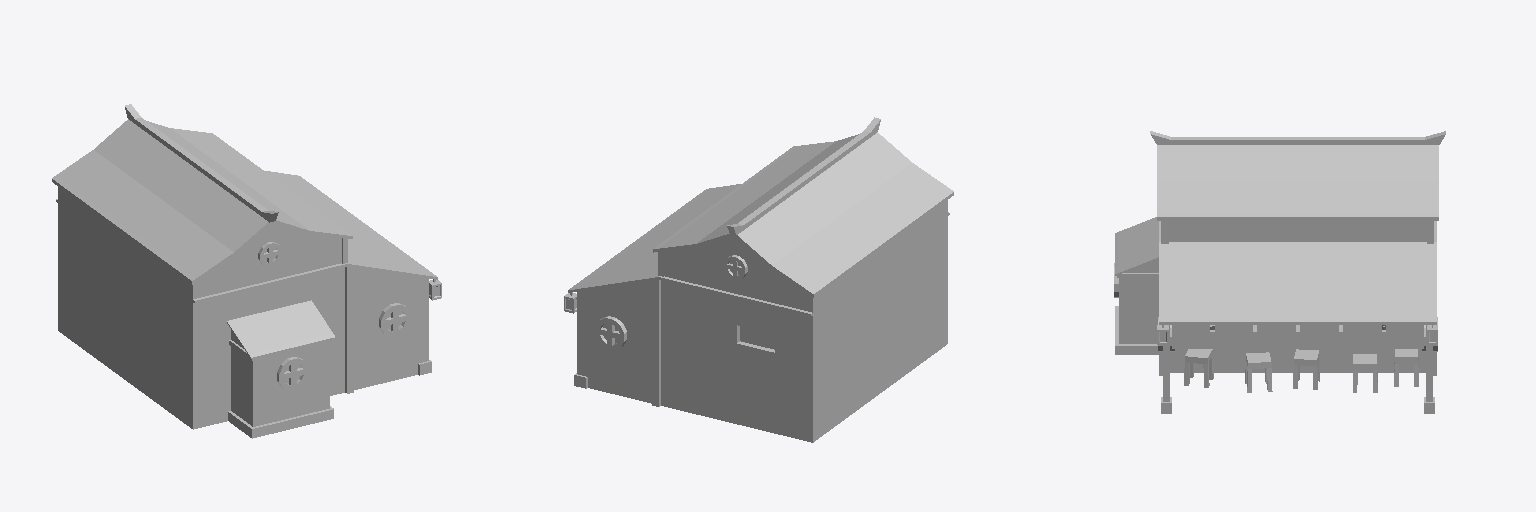
Rendered from Japanese_country_house_1_obj.obj.
3 renders of one model, left to right at view 1: azimuth 30°, elevation 25°; view 2: azimuth 150°, elevation 25°; view 3: azimuth 270°, elevation 25°, orthographic.
Visible parts, largest first — view 1: Cube.001; view 2: Cube.001; view 3: Cube.001.
Part boxes in pixels (x1,y1,x2,y2): Cube.001: (52, 104, 441, 438); Cube.001: (564, 117, 953, 442); Cube.001: (1114, 131, 1445, 413).
Size of the model in its own units: 4.02 by 3.12 by 4.62.